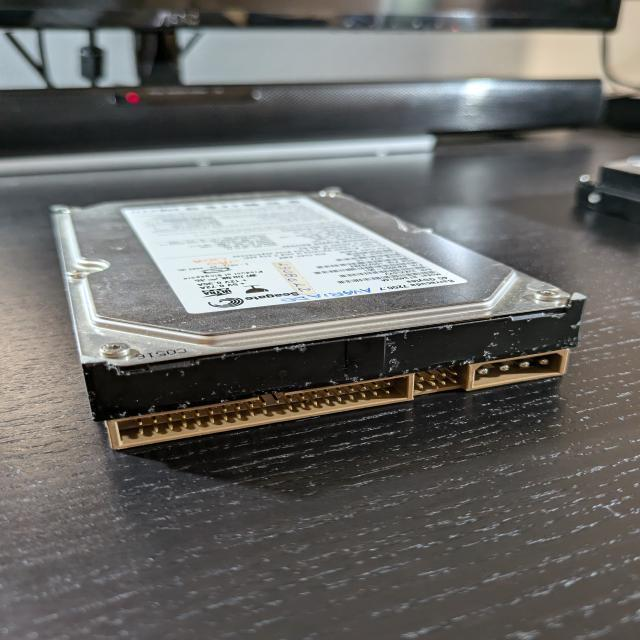DISK: (51, 187, 586, 450), (576, 156, 640, 224)
